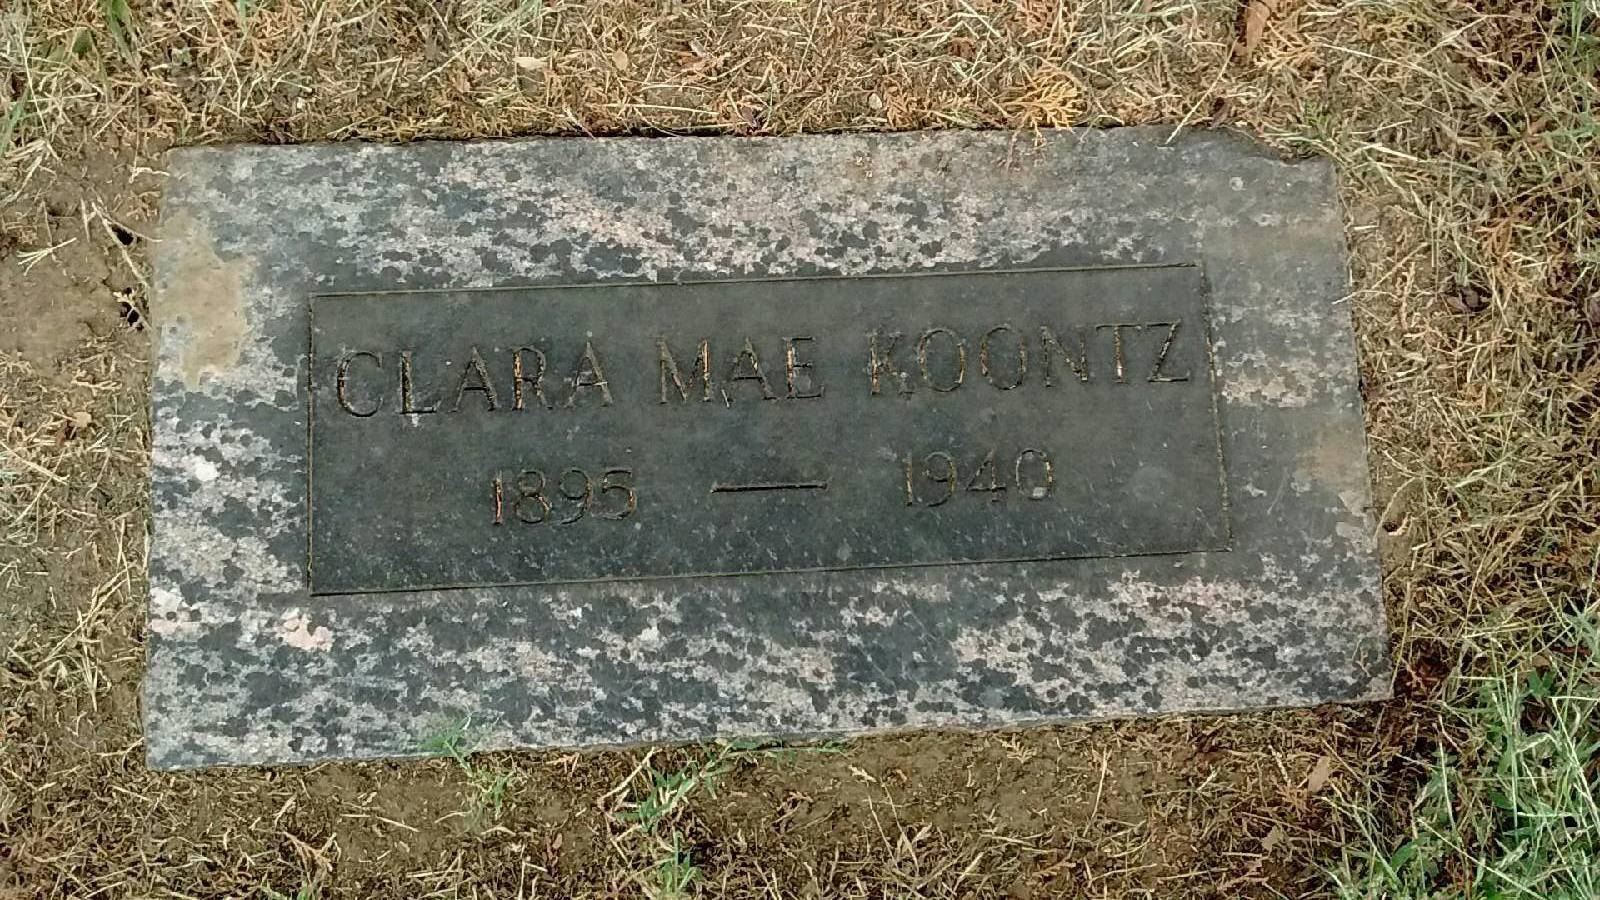flat: (124, 124, 1400, 774)
